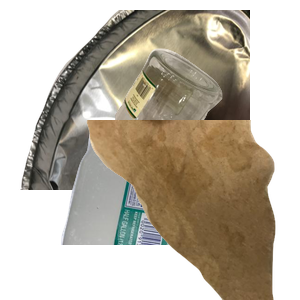glass: (110, 46, 300, 205)
metal: (18, 10, 258, 190)
plastic: (58, 120, 298, 300)
trash: (84, 120, 300, 300)
